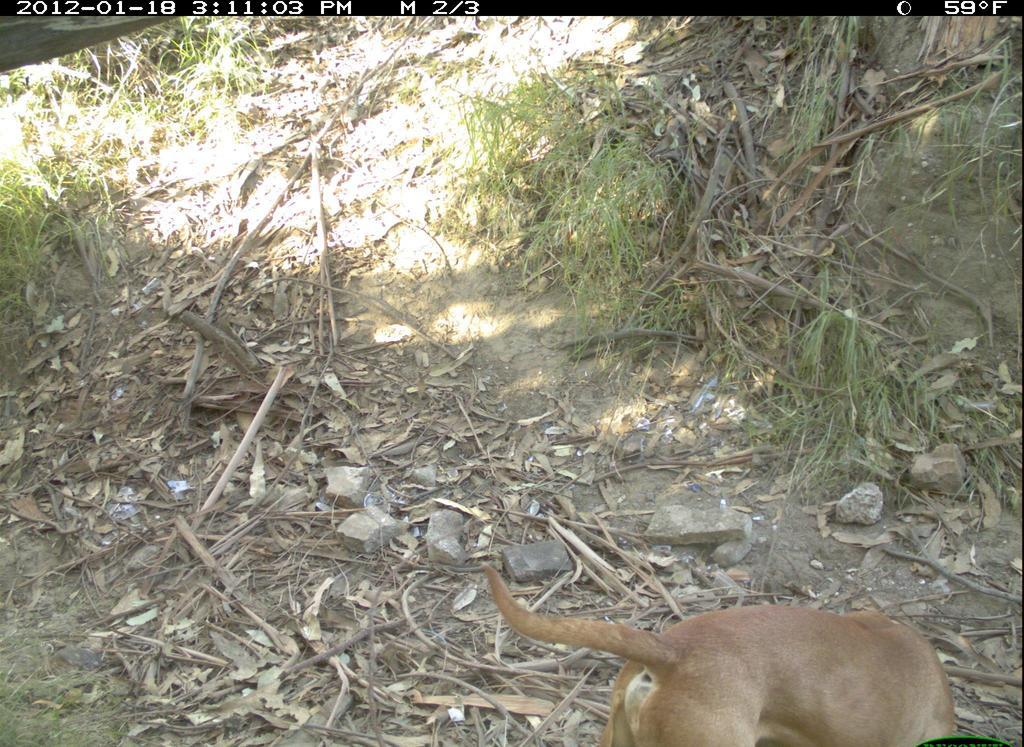dog: (479, 562, 954, 745)
